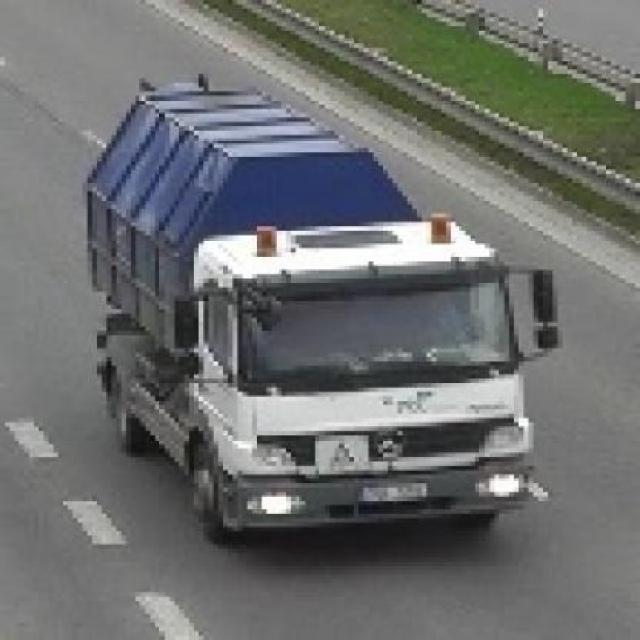truck: (88, 80, 563, 537)
